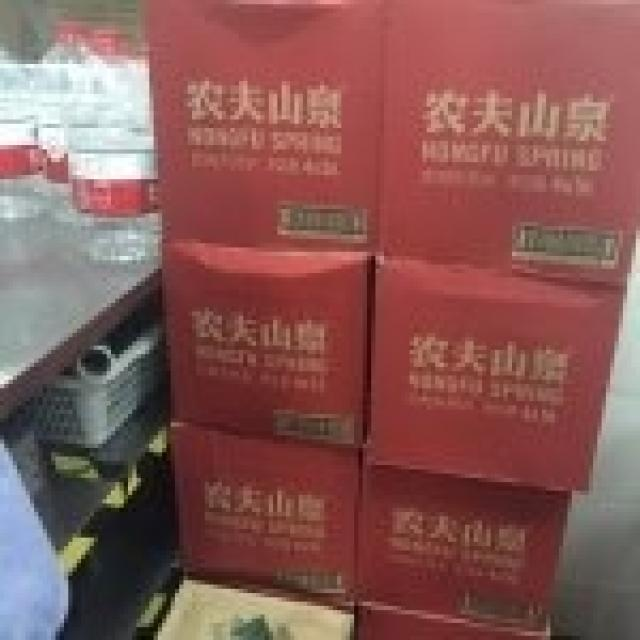box: (375, 0, 640, 286), (358, 247, 627, 495), (141, 0, 384, 247), (162, 239, 375, 452), (363, 461, 572, 627), (171, 422, 358, 606), (149, 572, 358, 640), (350, 602, 550, 640)
